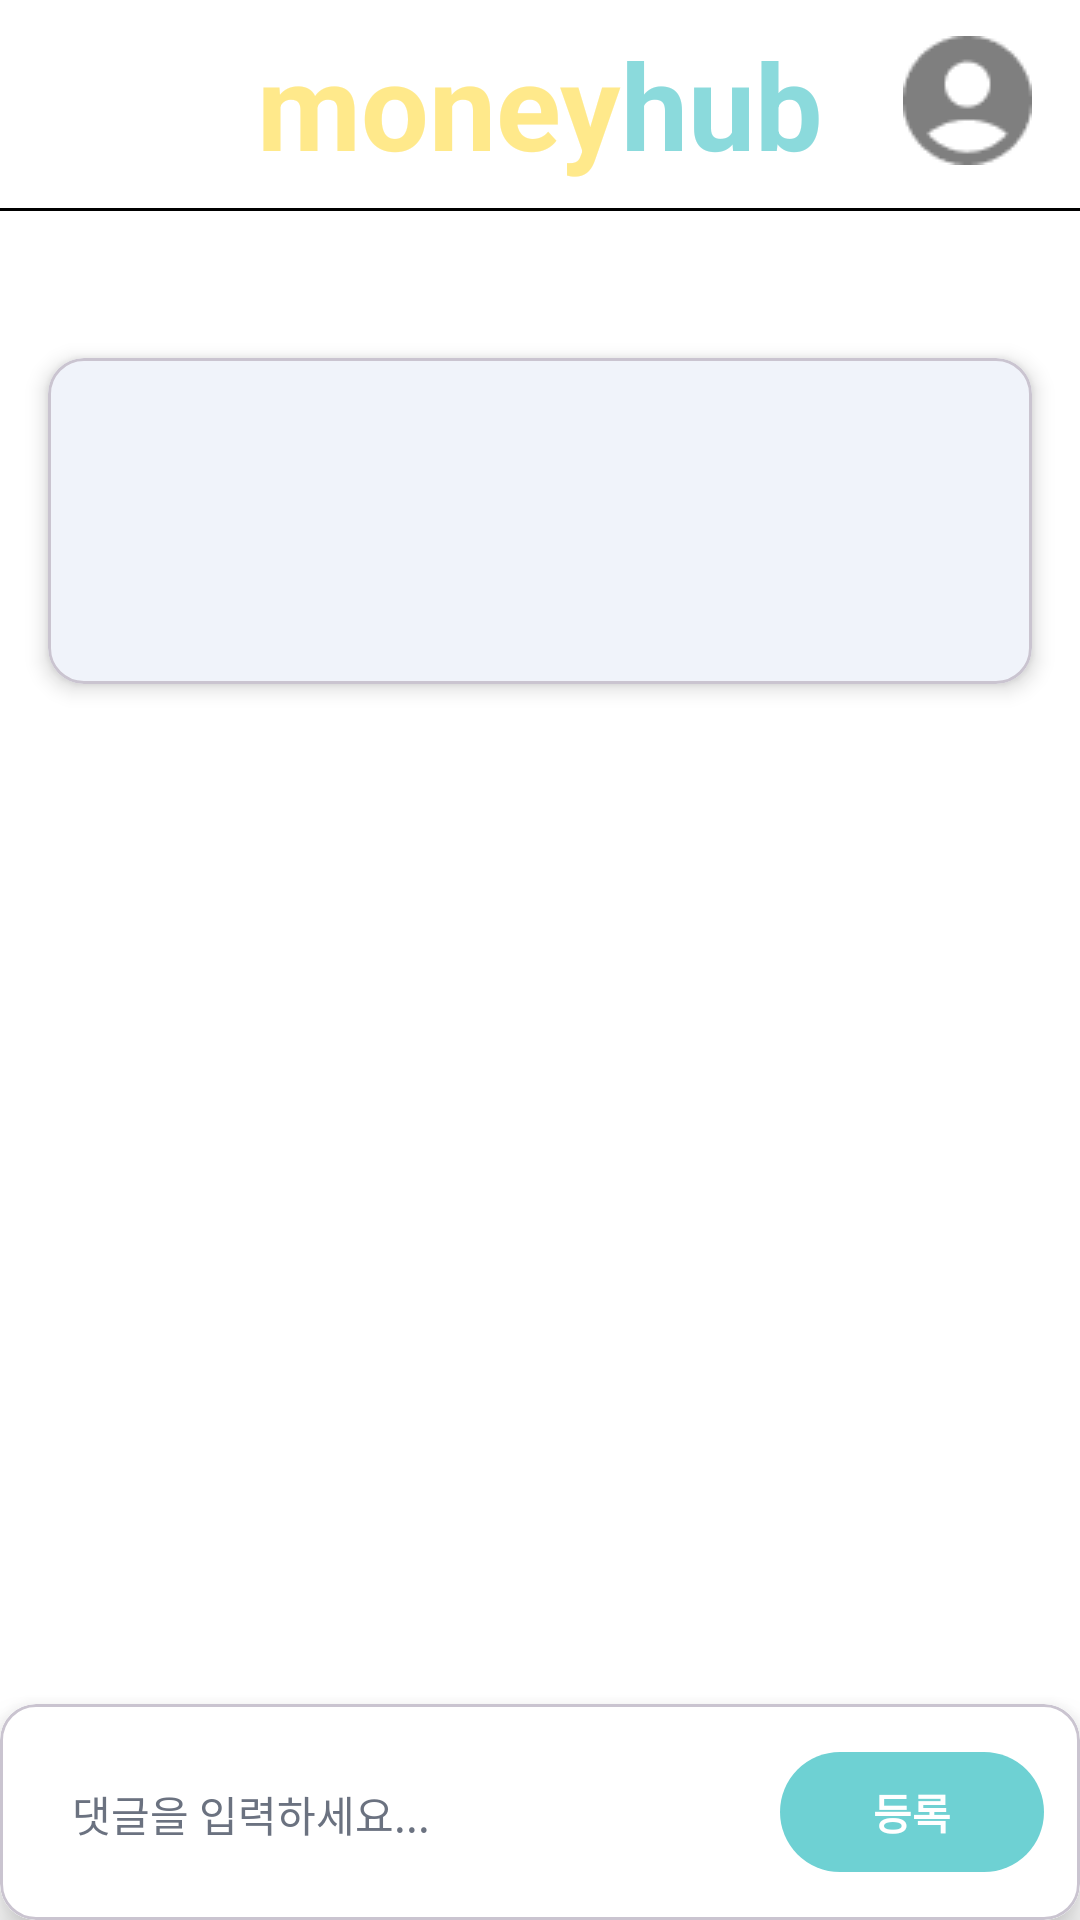

Icons on this 1080*1920 Android screen, each with the point to tap as [x,y]:
mypage: [967,100]
